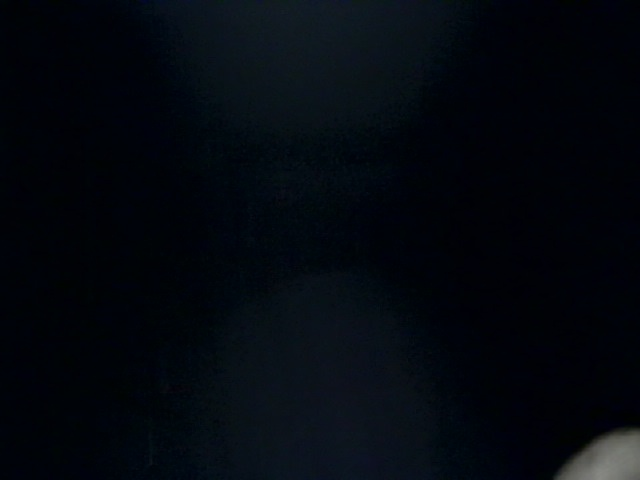QTLJ: (412, 219, 595, 471)
